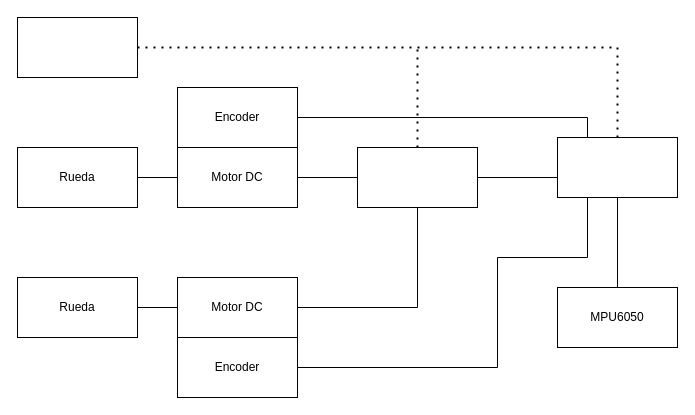
This 695x415 diagram has some shape labels left out. Each missing label, with the centre of its shape:
"ESP32" belongs at (x=617, y=167).
"Fuente de alimentación" belongs at (x=77, y=47).
"L298N" belongs at (x=417, y=177).
